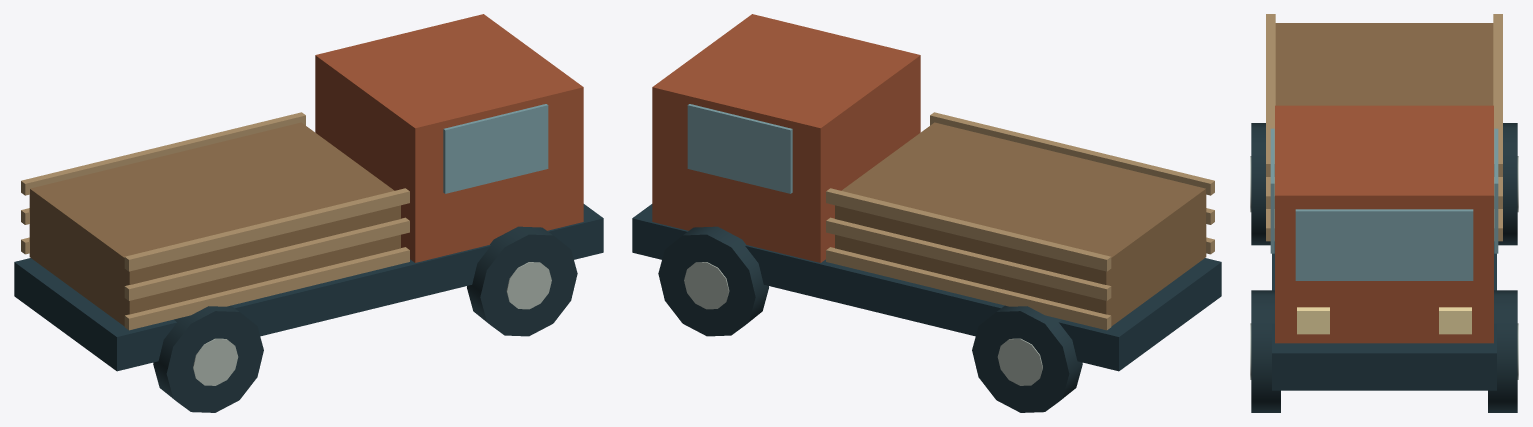
The model's file is early-truck.glb.
The picture shows the model from 3 angles, left to right: view 1: azimuth 30°, elevation 25°; view 2: azimuth 150°, elevation 25°; view 3: azimuth 270°, elevation 25°; orthographic projection. The views are drawn at different scales.
Visible parts, largest first — view 1: early-truck (×12); view 2: early-truck (×12); view 3: early-truck (×14).
Part boxes in pixels (bbox=[...]): early-truck (×12): bbox=[14, 14, 603, 412]; early-truck (×12): bbox=[632, 14, 1221, 412]; early-truck (×14): bbox=[1251, 14, 1517, 412].
Bounding box in the file's own units: 5.2 × 2.3 × 2.27.
